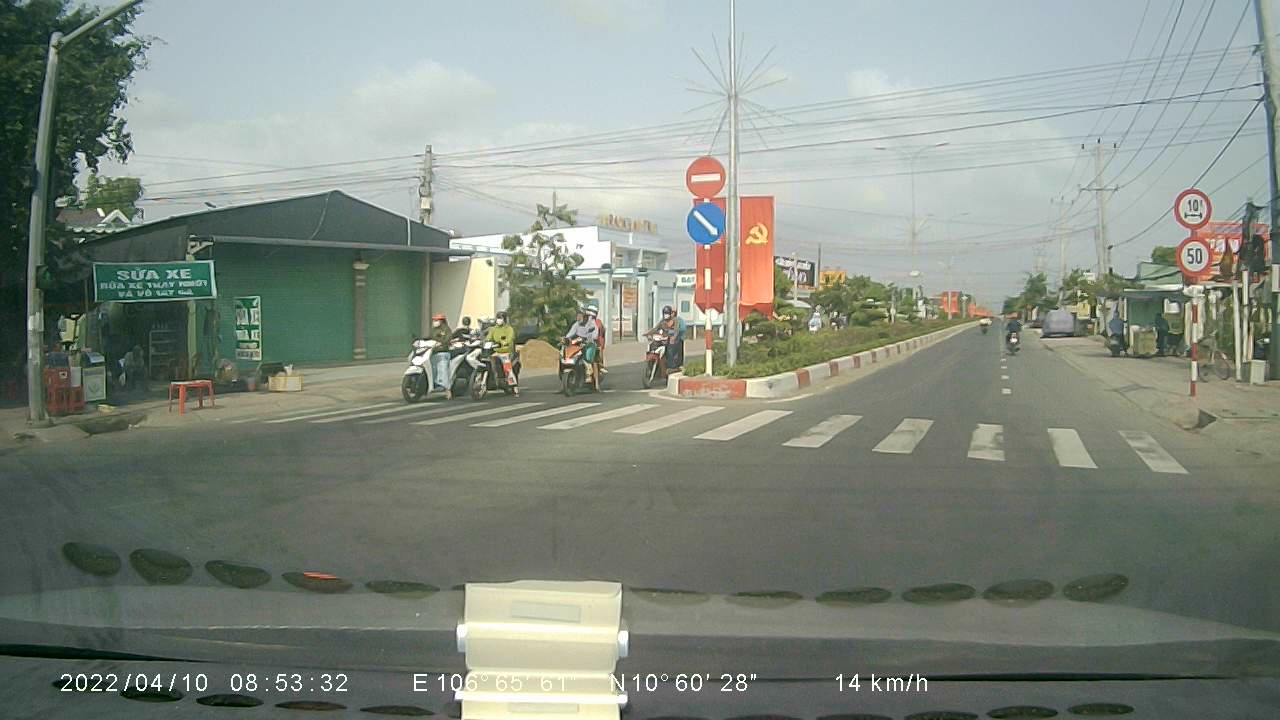Bien khac: (1170, 183, 1217, 230), (1173, 234, 1216, 279)
Cam di nguoc chieu: (683, 154, 726, 200)
Huong di phai re phai: (683, 203, 725, 246)
